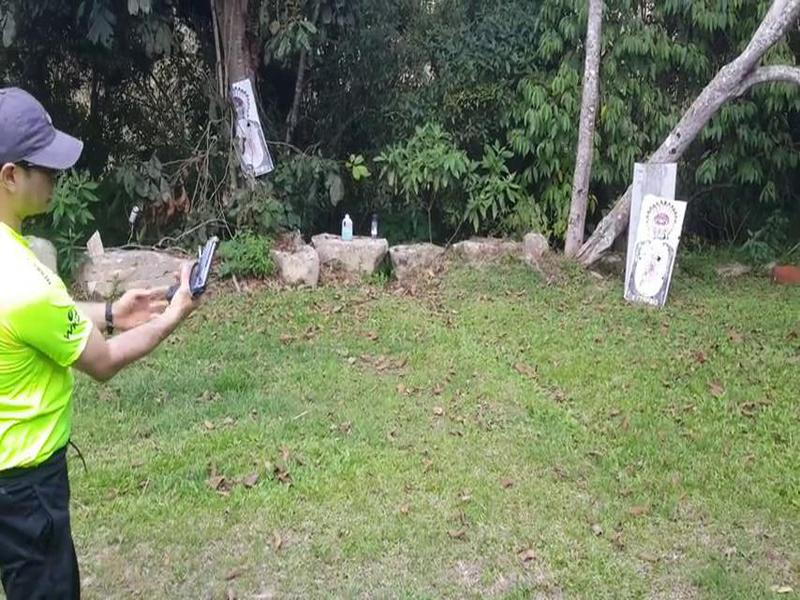Pistola: (165, 230, 227, 306)
